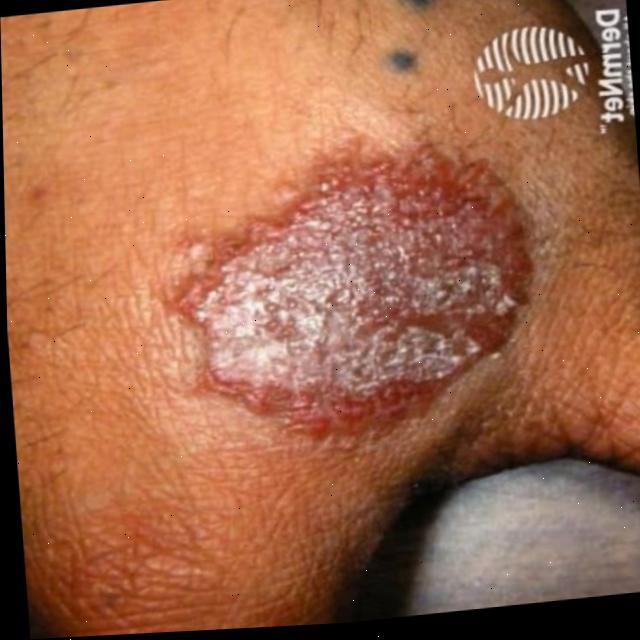Eczema: (201, 158, 515, 415)
